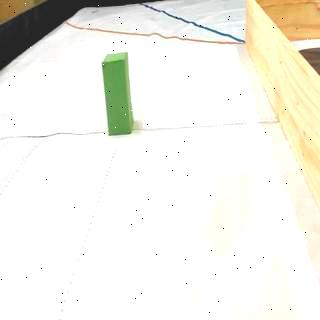greenbox: (102, 54, 134, 134)
